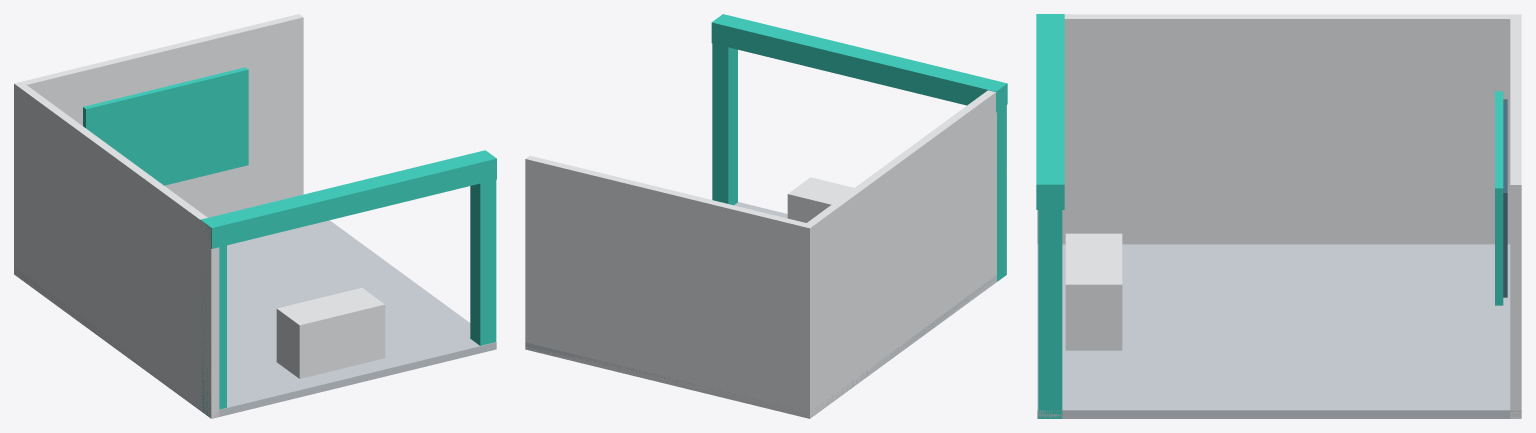
The picture shows the model from 3 angles, left to right: view 1: azimuth 30°, elevation 25°; view 2: azimuth 150°, elevation 25°; view 3: azimuth 270°, elevation 25°; orthographic projection. The views are drawn at different scales.
Visible parts, largest first — view 1: Exhibition Booth Concept; view 2: Exhibition Booth Concept; view 3: Exhibition Booth Concept.
Part boxes in pixels (x1,y1,x2,y2): Exhibition Booth Concept: (14,14,496,418); Exhibition Booth Concept: (525,14,1007,418); Exhibition Booth Concept: (1036,14,1521,418).
Size of the model in its own units: 5 by 3.2 by 6.02.
